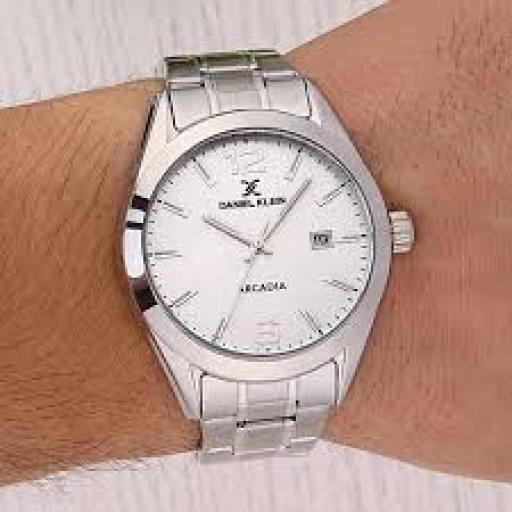KolSaati: (92, 12, 452, 482)
